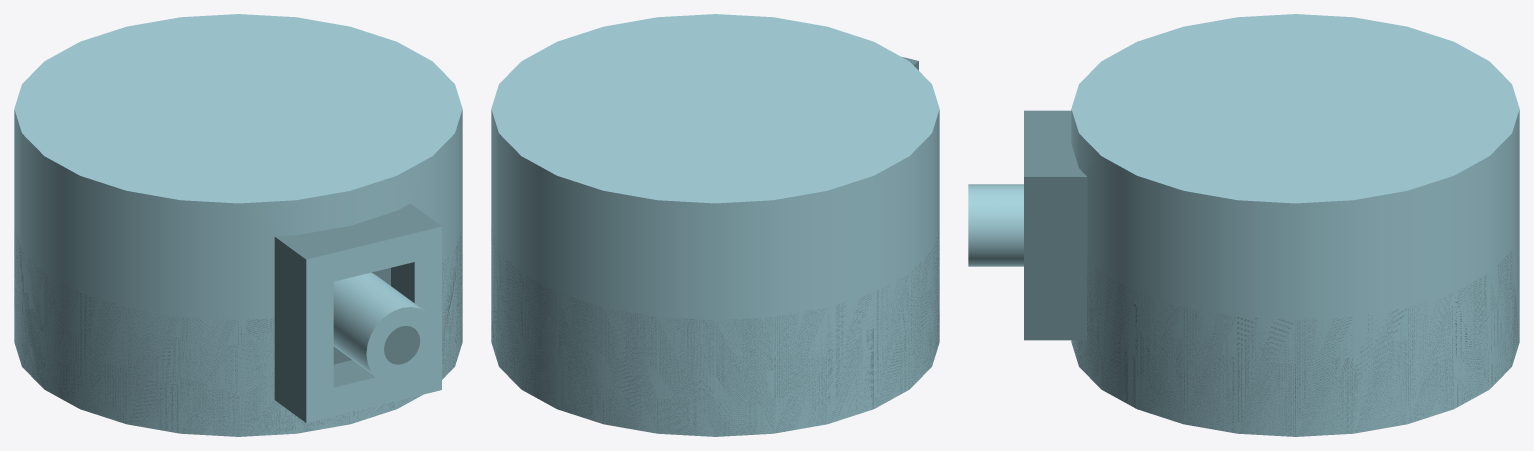
File: towerRound_middleB.dae
3 renders of one model, left to right at view 1: azimuth 30°, elevation 25°; view 2: azimuth 150°, elevation 25°; view 3: azimuth 270°, elevation 25°, orthographic.
Parts seen in each view (by area): view 1: towerRound_middleB; view 2: towerRound_middleB; view 3: towerRound_middleB.
Part boxes in pixels (x1=…): towerRound_middleB: x1=14, y1=14, x2=462, y2=436; towerRound_middleB: x1=491, y1=14, x2=939, y2=436; towerRound_middleB: x1=968, y1=14, x2=1519, y2=436.
Bounding box in the file's own units: 0.87 × 0.5 × 1.07.
